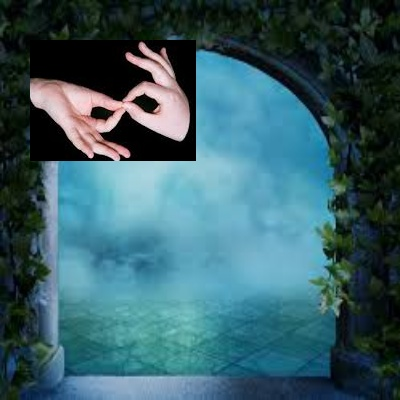hand: (30, 40, 196, 161)
